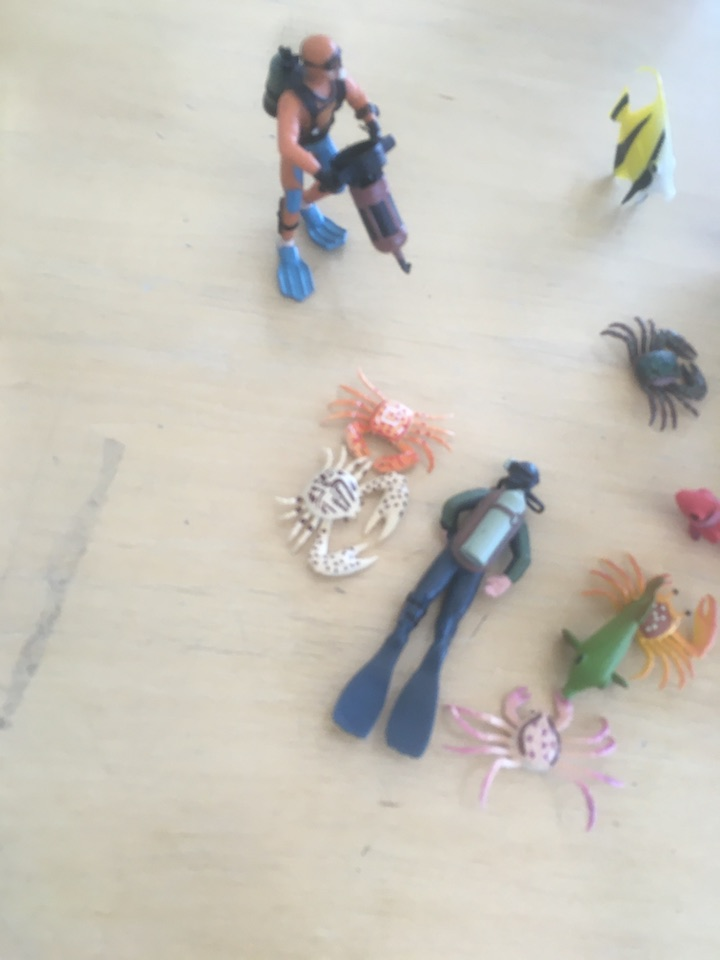crab: (439, 679, 620, 837), (271, 443, 409, 587), (581, 548, 718, 687), (317, 370, 460, 486), (595, 312, 711, 433)
danger: (586, 67, 679, 217)
diver: (328, 452, 549, 765), (255, 27, 417, 309)
fish: (556, 567, 672, 707), (671, 483, 720, 552)
